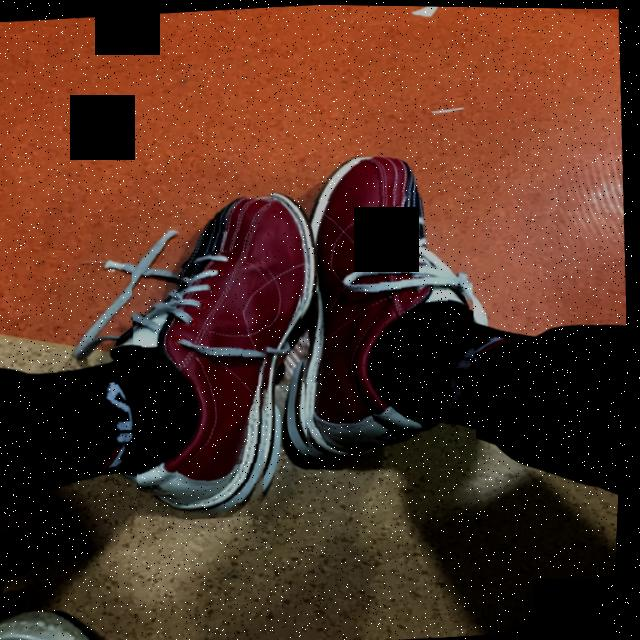shoe: (281, 122, 495, 498), (117, 156, 298, 523)
